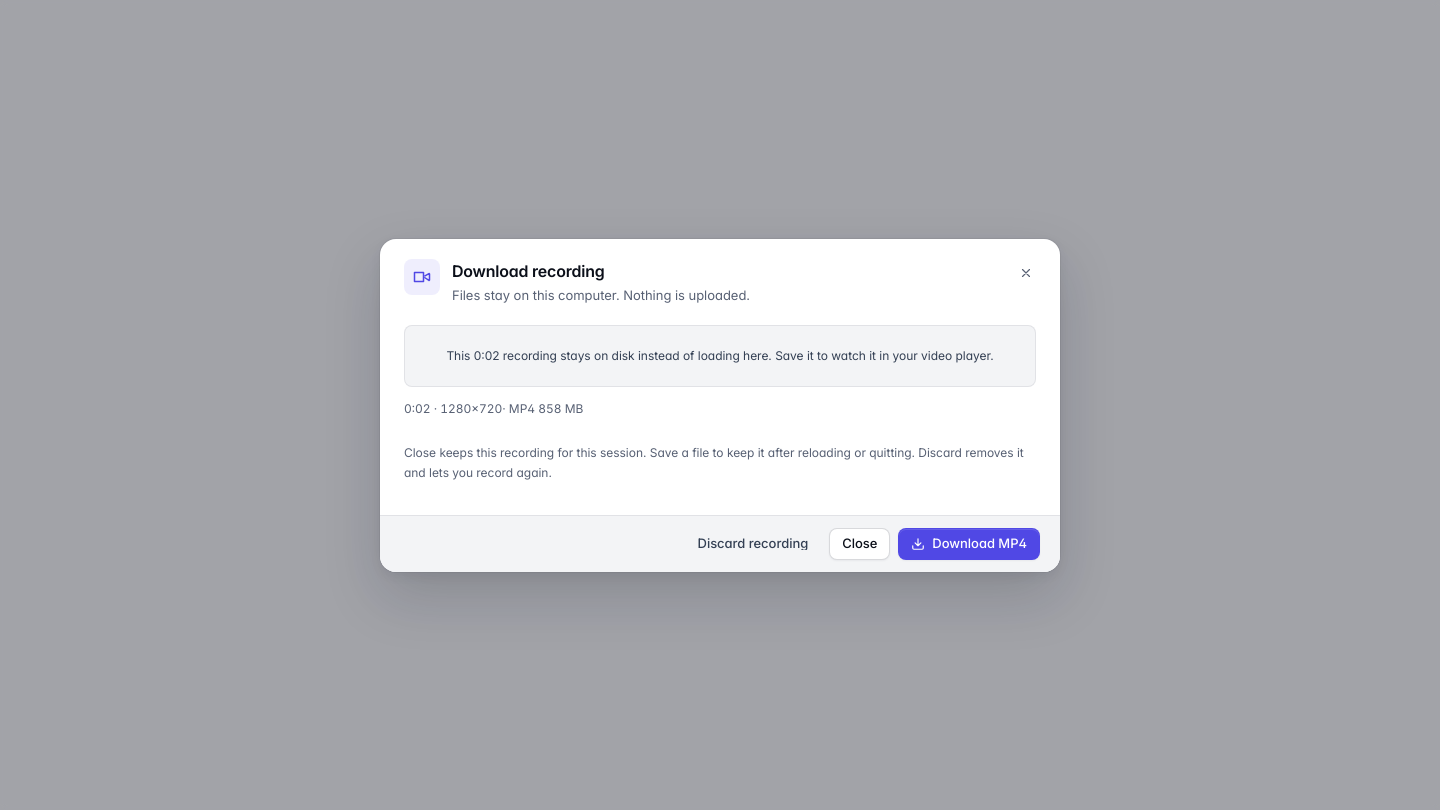
Test: screen record dialog › keeps a large desktop recording on disk and offers its folder after saving
Expected: the text "stays on disk" is shown, top-left (446, 348), bottom-right (994, 362)
Click the button "Download MP4": click(969, 544) top-left (898, 528), bottom-right (1040, 560)
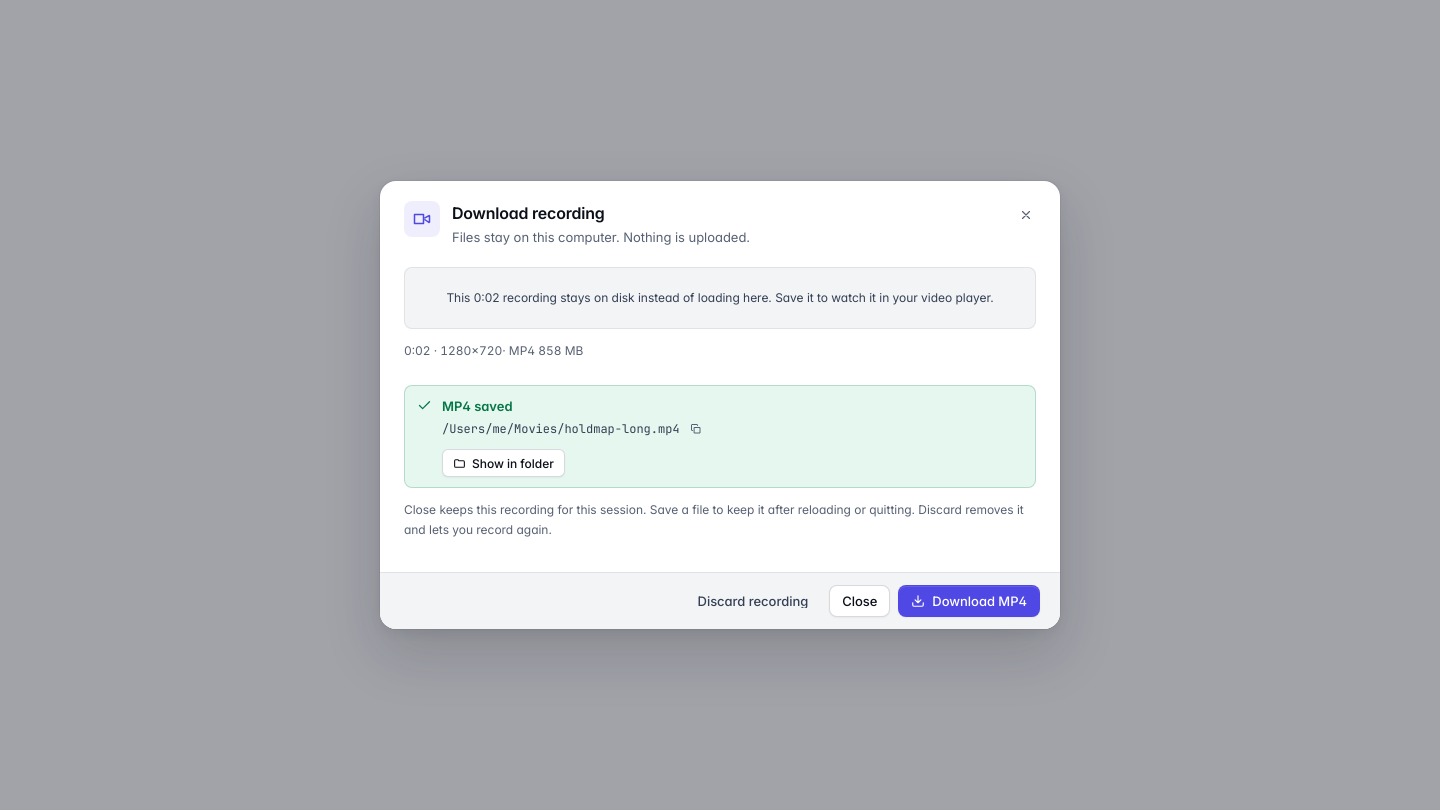
Now the button "Show in folder" is shown, box top-left (442, 449), bottom-right (565, 477)
